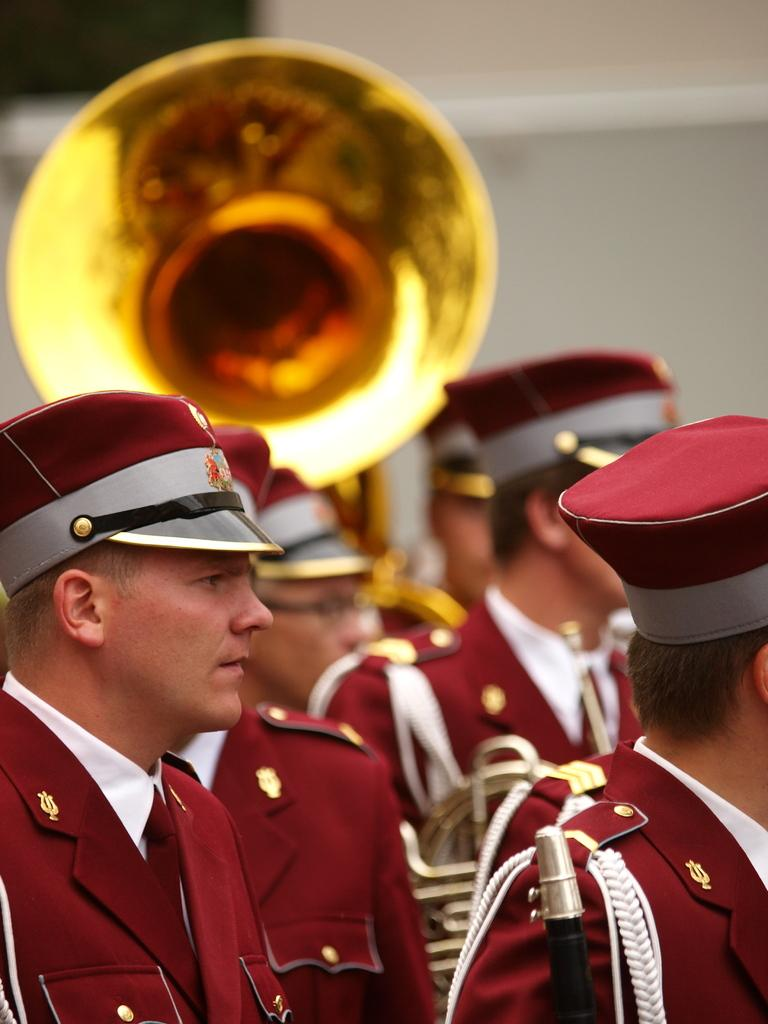Hat: (0, 392, 281, 602), (558, 408, 766, 647), (443, 350, 681, 494), (249, 462, 370, 580), (427, 404, 494, 502), (213, 426, 273, 522)
